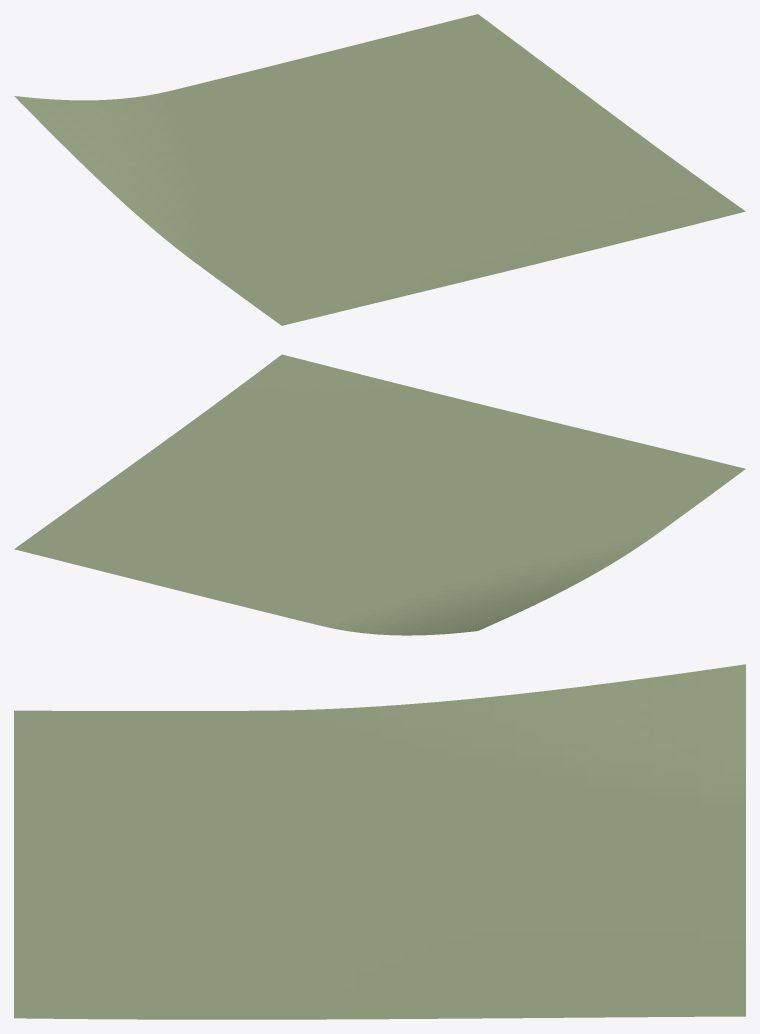
Rendered from desert-22-20.glb.
3 views of the same model, one above another, from view 1: azimuth 30°, elevation 25°; view 2: azimuth 150°, elevation 25°; view 3: azimuth 270°, elevation 25° (orthographic). The views are drawn at different scales.
Visible parts, largest first — view 1: desert-22-20; view 2: desert-22-20; view 3: desert-22-20.
Boxes of the visible parts, left/top/right/bottom form: desert-22-20: left=14, top=14, right=745, bottom=325; desert-22-20: left=14, top=354, right=745, bottom=635; desert-22-20: left=14, top=664, right=745, bottom=1019.
Bounding box in the file's own units: 512 × 36.75 × 512.
